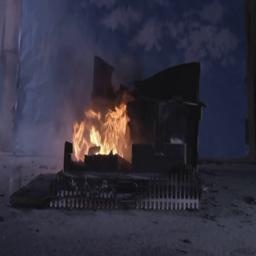fire: (64, 95, 143, 167)
